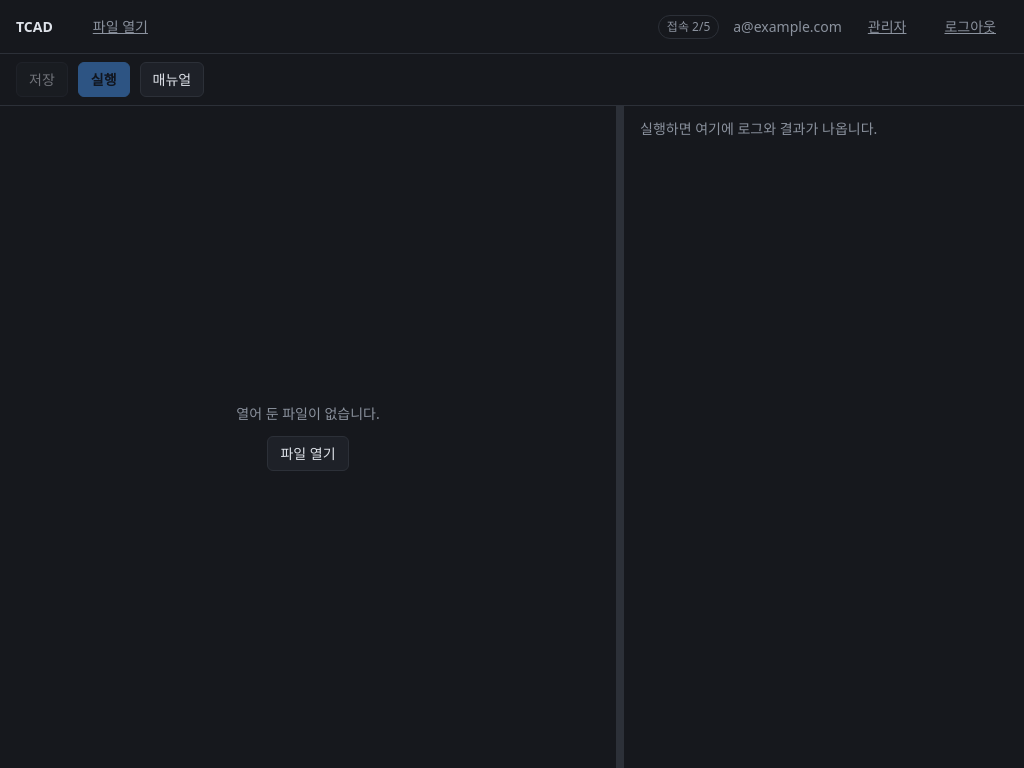
it: 관리자 화면 › 열면 초대 발급 화면이 나온다
Step 1. Click the button "관리자" → [887, 26], box top-left (856, 10), bottom-right (918, 43)
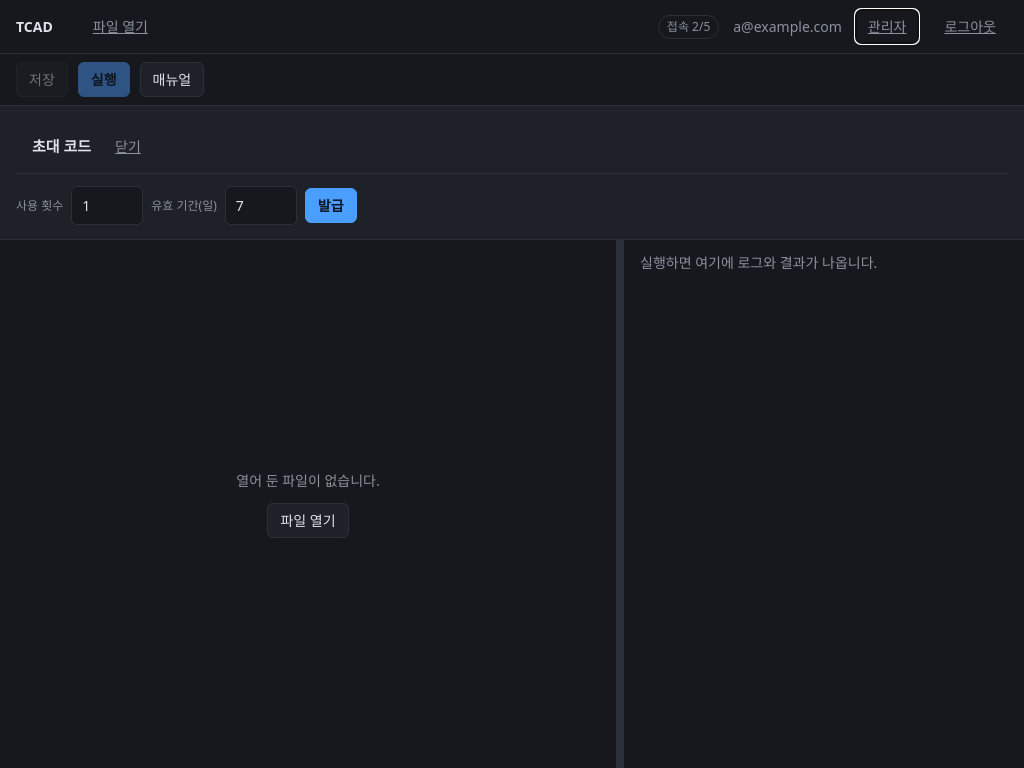
Expected: the button "발급" is shown, top-left (305, 188), bottom-right (357, 223)
